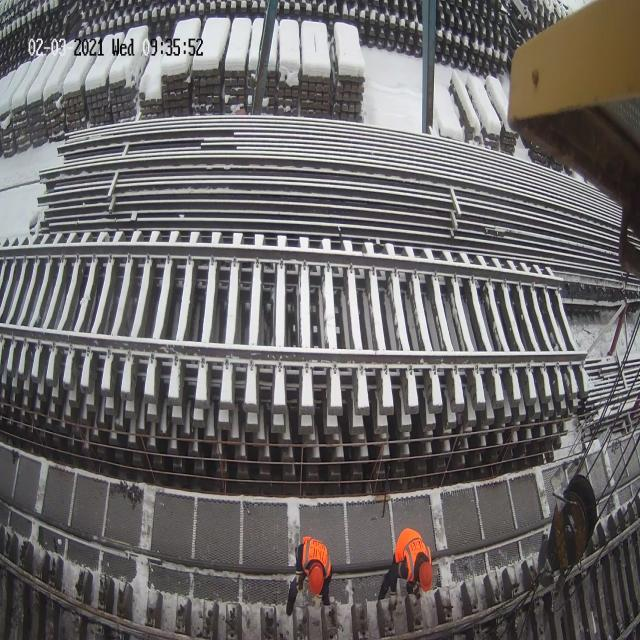Helmet: (417, 557, 434, 593), (308, 562, 324, 596)
Person: (378, 528, 433, 602), (286, 535, 332, 616)
